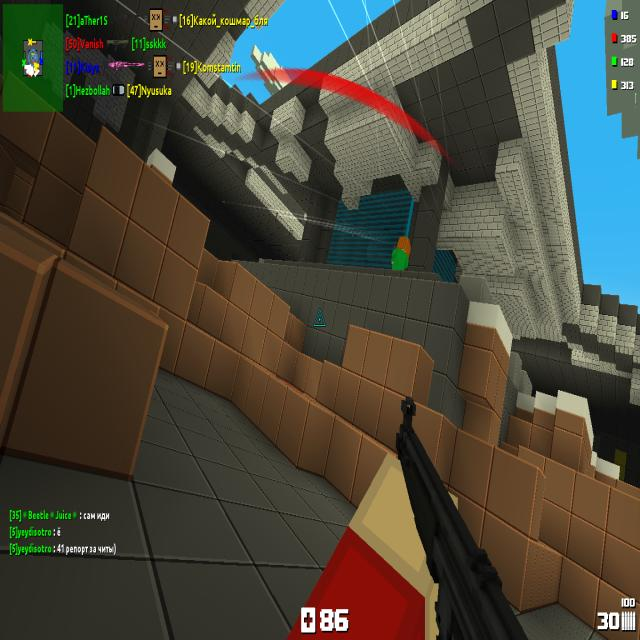enemy: (392, 236, 412, 270)
